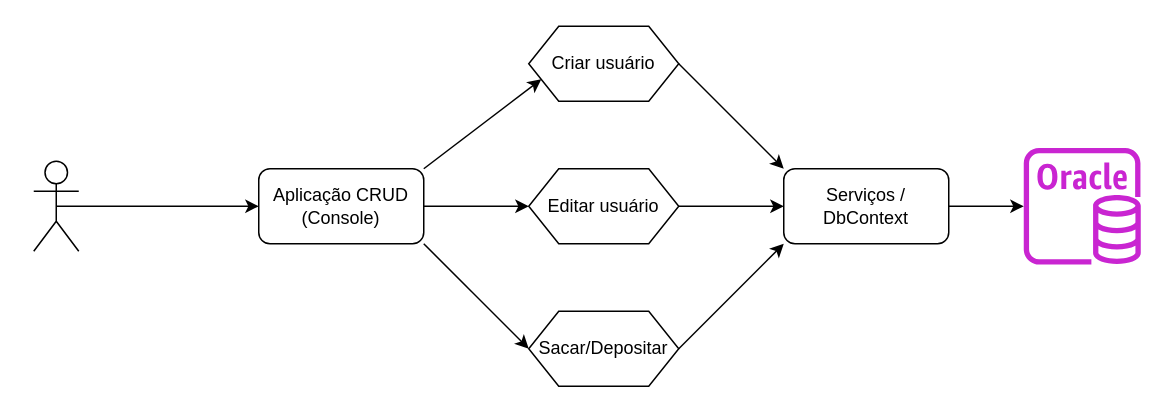
This 1173x413 diagram has some shape labels left out. The box of each missing label's shape, as (x1, y1, x2, y2) in pixels:
Banco de dados: (1023, 147, 1140, 264)
Usuário: (32, 160, 79, 251)
